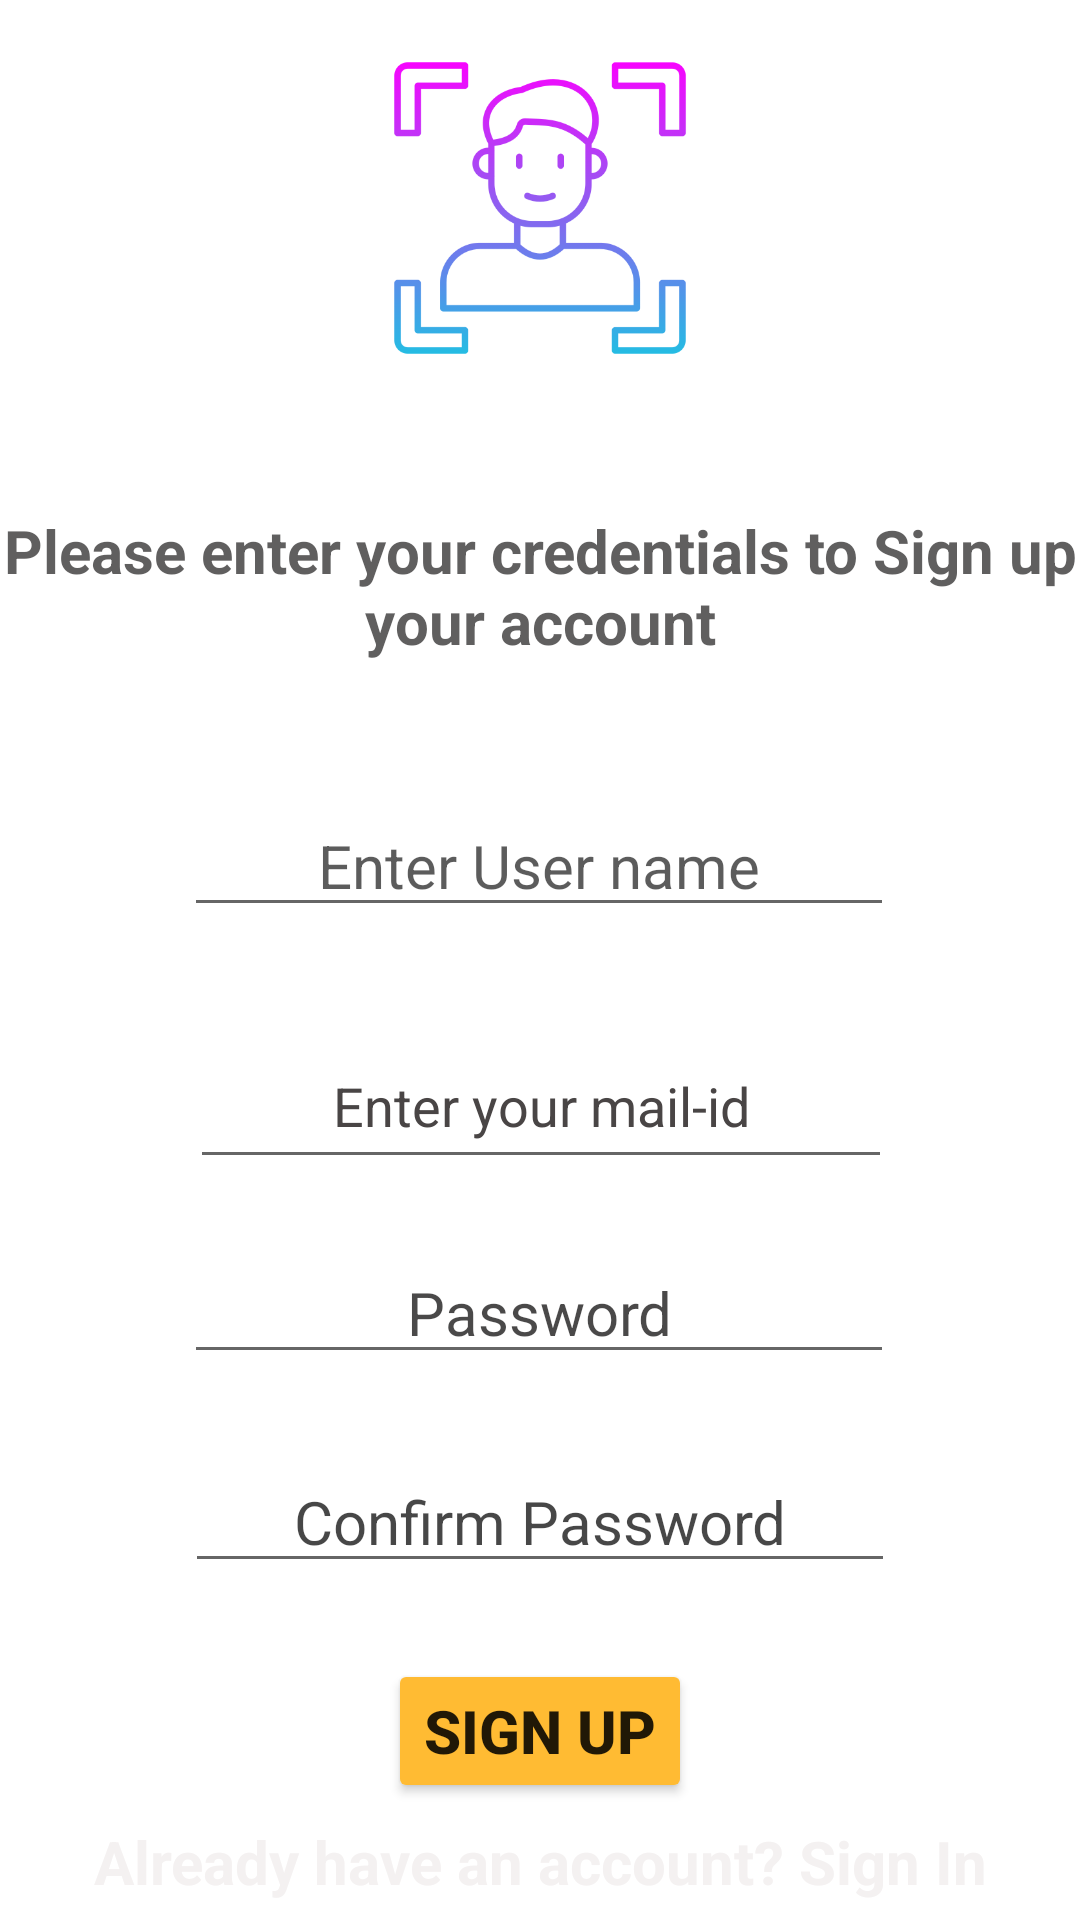

Icon click points for this 1080 x 1920 phone screenshot, format point (x, y):
scan: point (540, 208)
